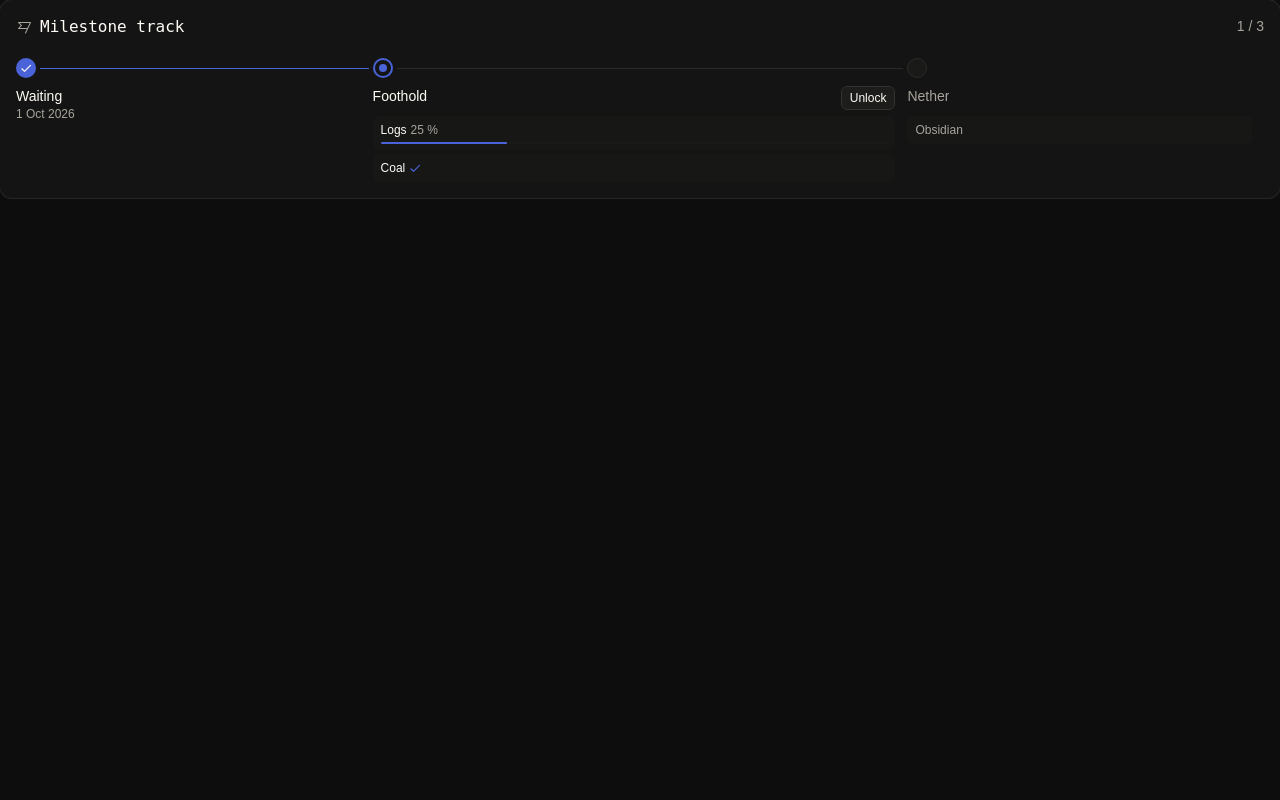
Test: SmpActions › shows a step's settings under their schema labels
Click the button "Foothold" at (400, 96), box [373,86,427,106]
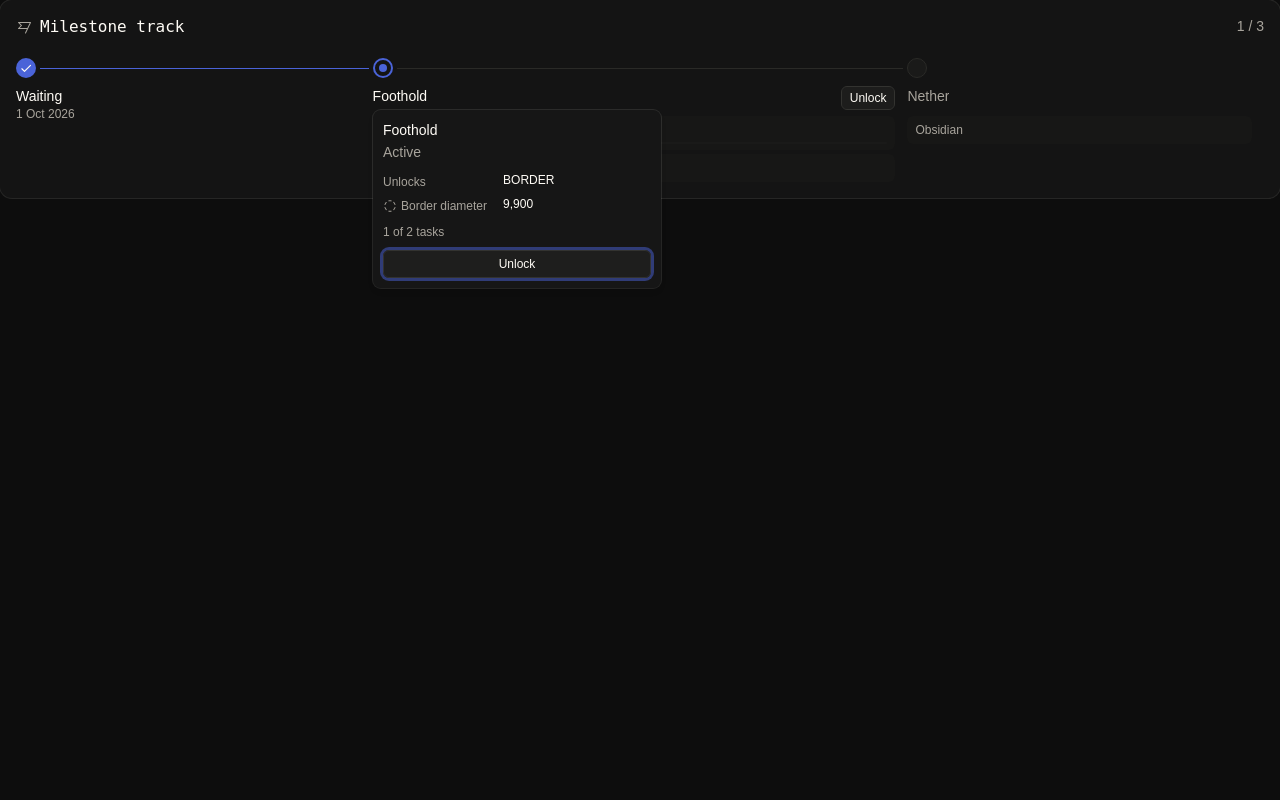
Now the text "Border diameter" is shown, box [383,196,487,214]
Now the text "9,900" is shown, box [503,197,533,211]
Now the text "BORDER" is shown, box [503,173,554,187]
